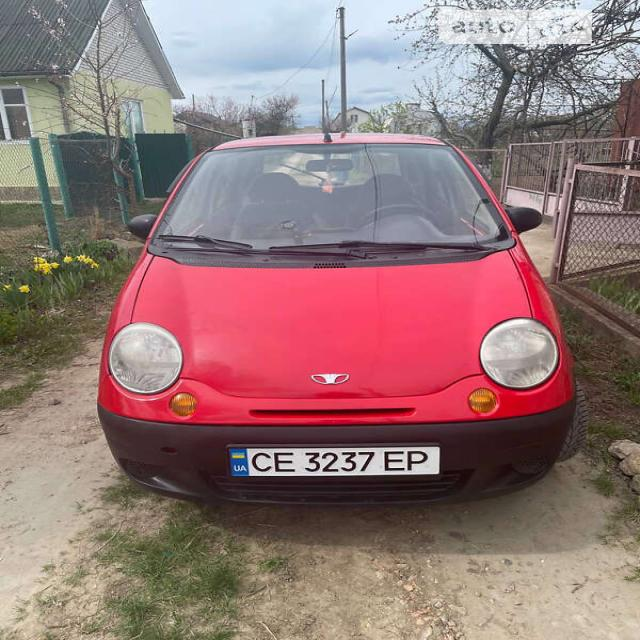plate: (211, 433, 476, 491)
